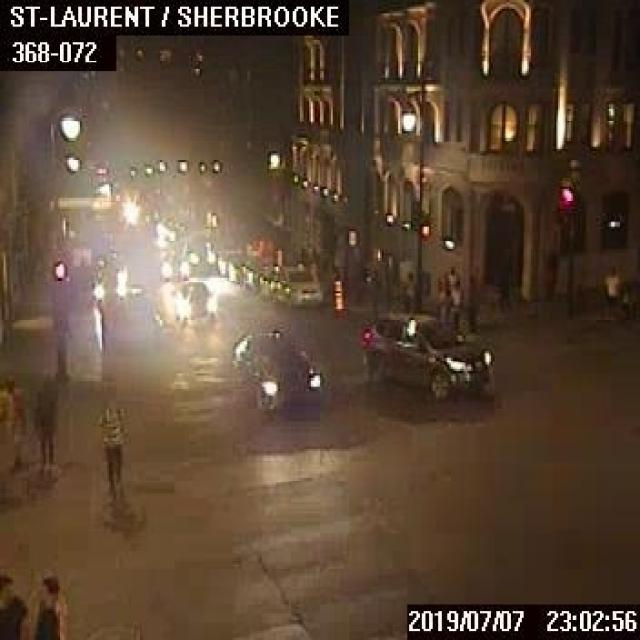construction: (330, 276, 343, 310)
pedestrian: (96, 396, 124, 498), (34, 372, 57, 479), (0, 377, 25, 471), (33, 566, 62, 638), (0, 569, 29, 638), (603, 264, 618, 318), (400, 271, 415, 307), (628, 280, 638, 318), (619, 281, 628, 316), (449, 278, 461, 304), (446, 265, 456, 291)
vehicle: (359, 310, 494, 398), (229, 326, 322, 408), (268, 264, 322, 306), (170, 280, 214, 323), (87, 260, 125, 302)
